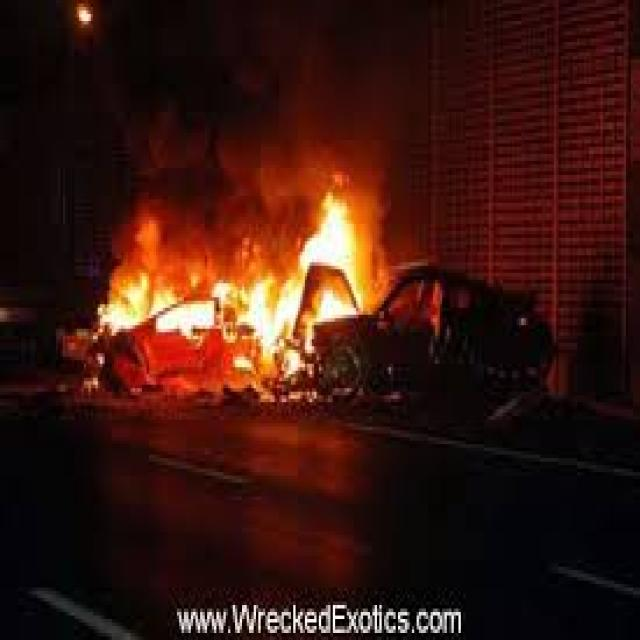Fire: (92, 185, 386, 404)
Smoke: (135, 12, 430, 112)
